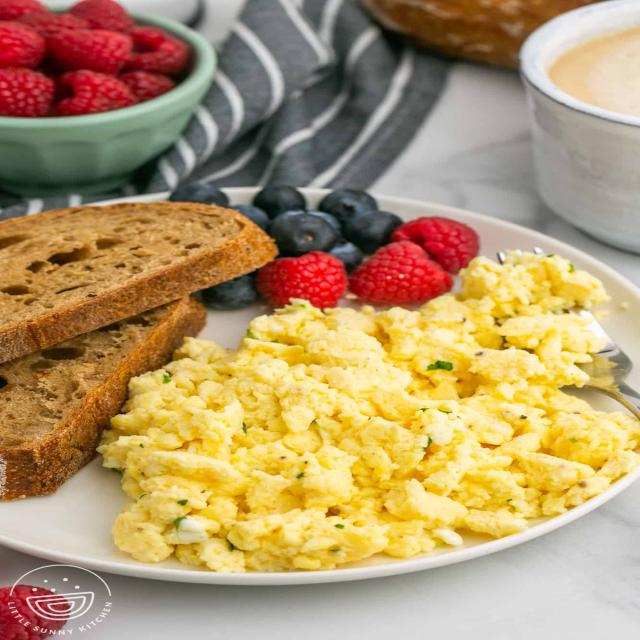eggs: (164, 304, 615, 548)
